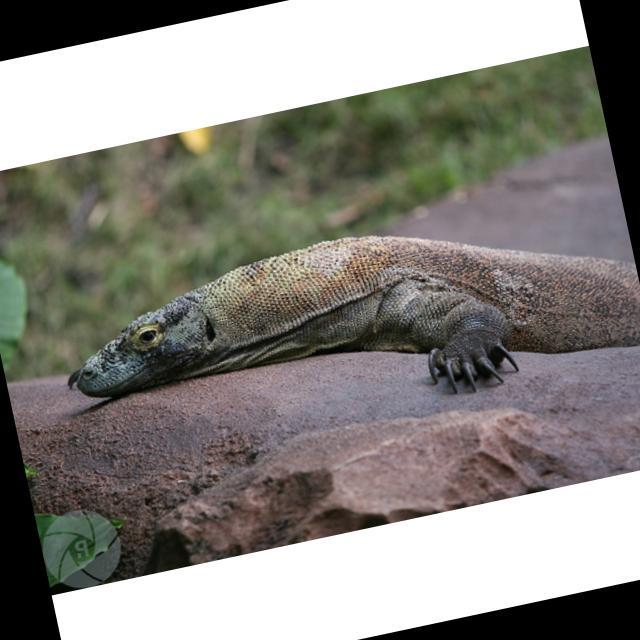KomodoDragon: (48, 175, 640, 475)
